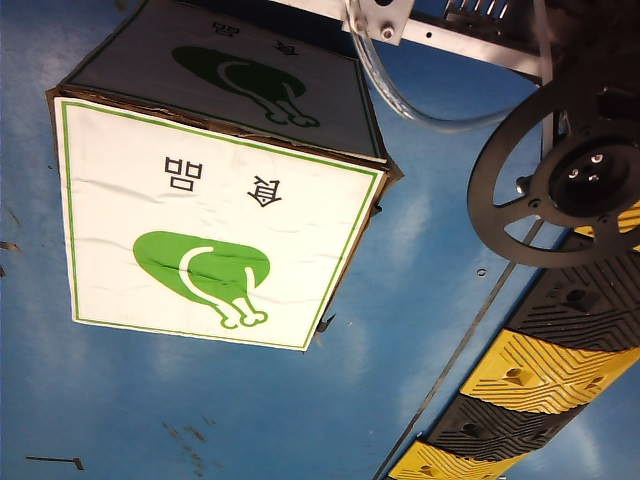Cube_food: (79, 150, 335, 331)
